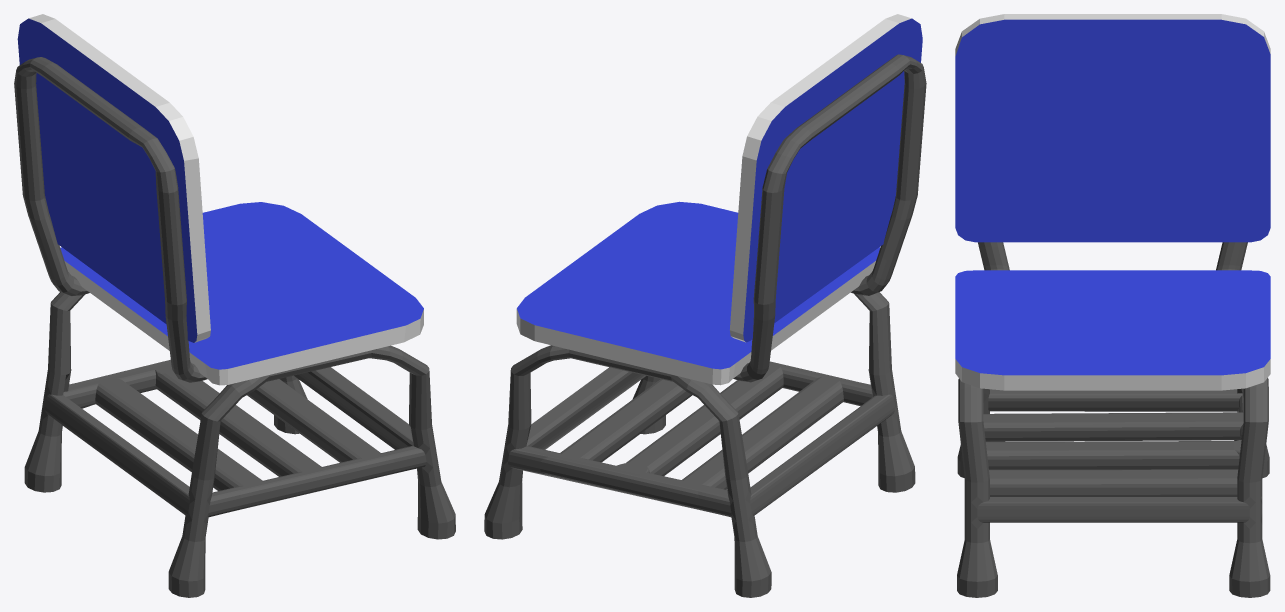
Rendered from Silla.fbx.
3 renders of one model, left to right at view 1: azimuth 30°, elevation 25°; view 2: azimuth 150°, elevation 25°; view 3: azimuth 270°, elevation 25°, orthographic. The views are drawn at different scales.
Parts seen in each view (by area): view 1: Silla; view 2: Silla; view 3: Silla.
Part boxes in pixels (x1,y1,x2,y2): Silla: (14,14,455,597); Silla: (484,14,926,597); Silla: (955,14,1270,597).
Bounding box in the file's own units: 91.03 × 141 × 88.49.
